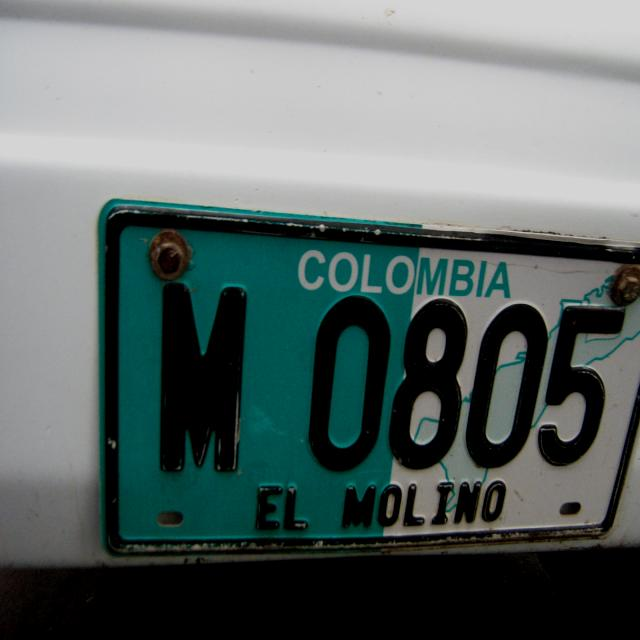placa: (87, 176, 638, 559)
